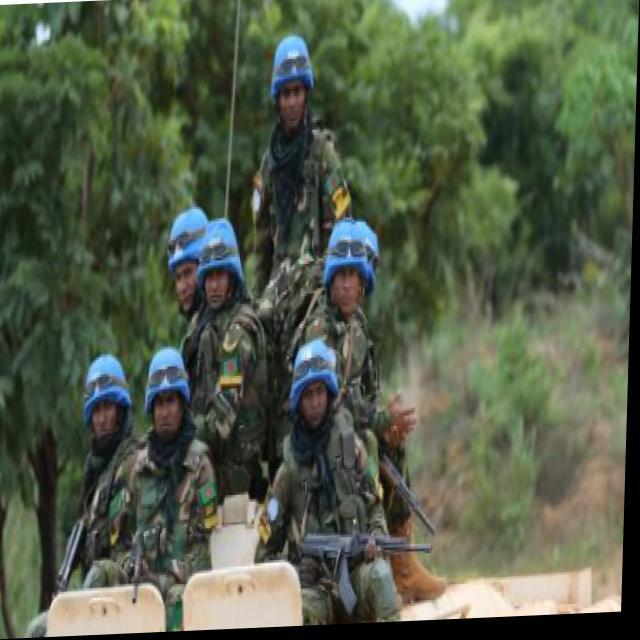helmet: (194, 212, 248, 319), (320, 215, 373, 324), (79, 347, 133, 450), (163, 203, 214, 308), (265, 27, 316, 128), (287, 338, 342, 431), (143, 343, 194, 438), (351, 216, 383, 313)
